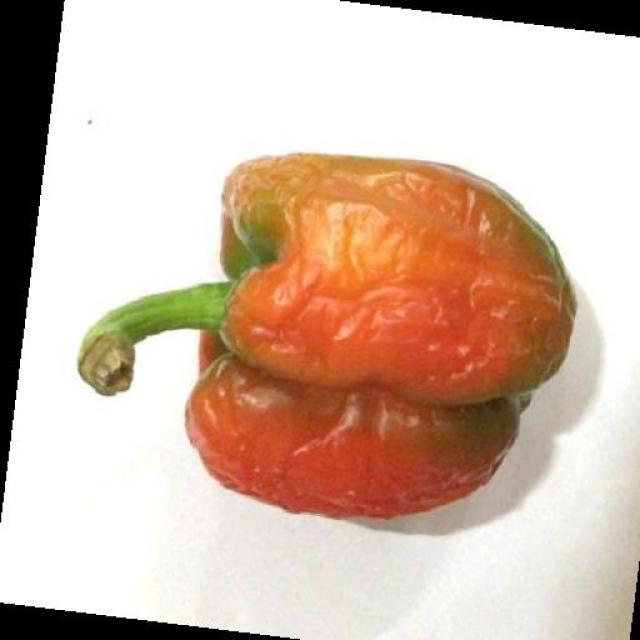Stale_Capsicum: (179, 126, 574, 548)
